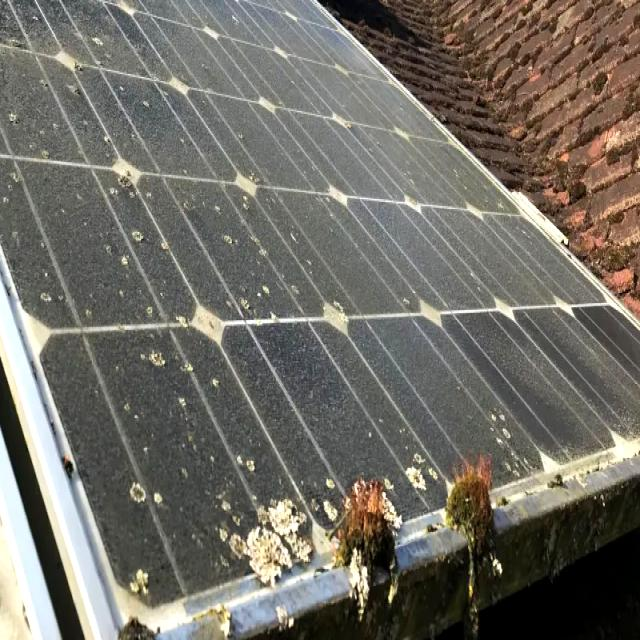dust: (253, 232, 430, 451), (105, 342, 254, 572), (440, 220, 544, 430), (30, 163, 142, 317), (179, 86, 307, 208), (322, 78, 388, 224)
